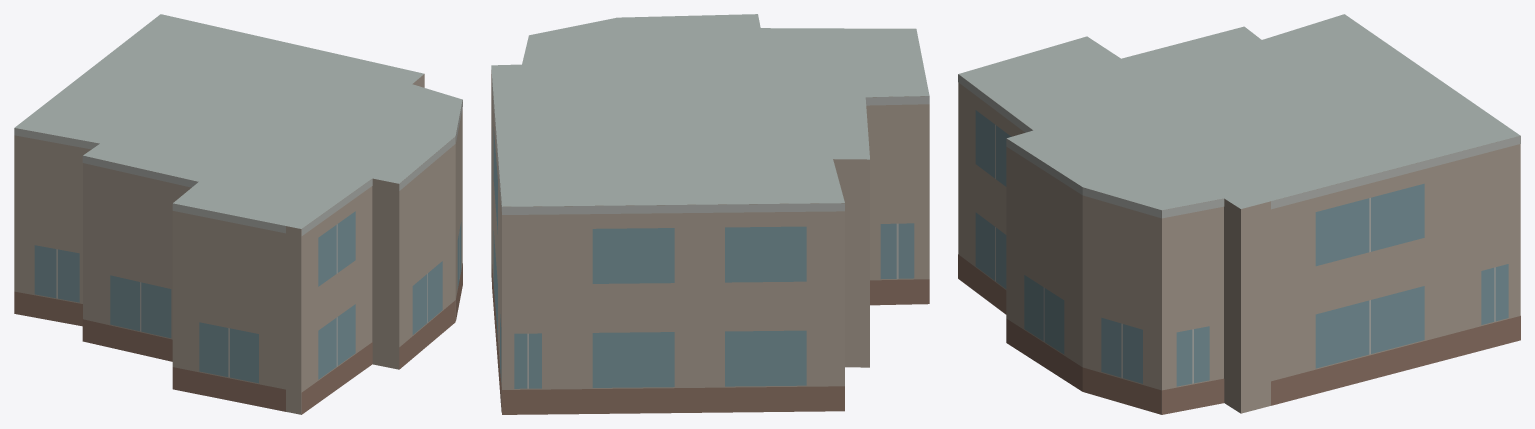
File: survey-upis-32715287.glb
The picture shows the model from 3 angles, left to right: view 1: azimuth 30°, elevation 25°; view 2: azimuth 150°, elevation 25°; view 3: azimuth 270°, elevation 25°; orthographic projection. The views are drawn at different scales.
Parts seen in each view (by area): view 1: survey-upis-32715287.tmp; view 2: survey-upis-32715287.tmp; view 3: survey-upis-32715287.tmp.
Boxes of the visible parts, bbox=[...] form: survey-upis-32715287.tmp: bbox=[14, 14, 462, 414]; survey-upis-32715287.tmp: bbox=[491, 14, 929, 414]; survey-upis-32715287.tmp: bbox=[958, 14, 1520, 414].
Bounding box in the file's own units: 12.56 × 6.1 × 15.21.
